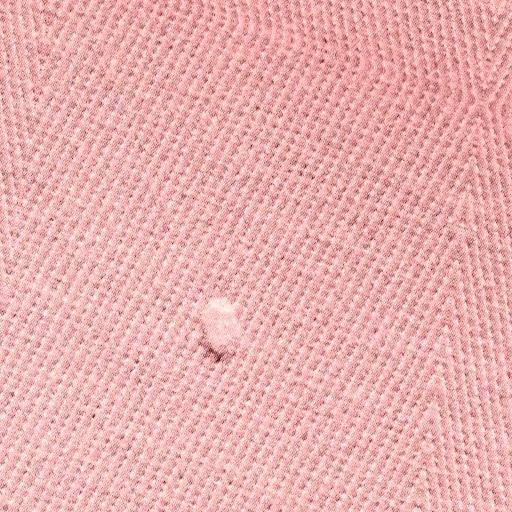knot: (194, 294, 246, 360)
